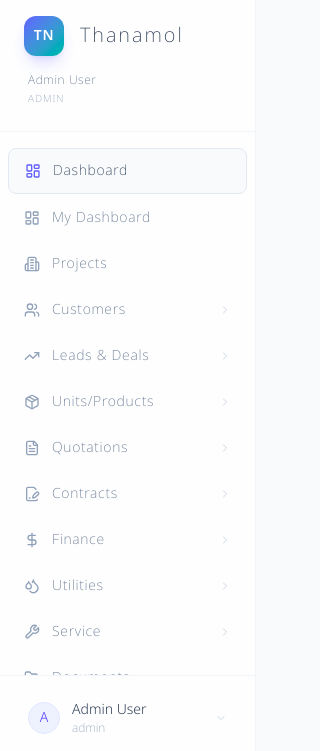
Sidebar › expands a submenu when its parent button is clicked
This screenshot has width=320, height=751.
Click the button "Customers" at (128, 310), box [8,288,247,332]
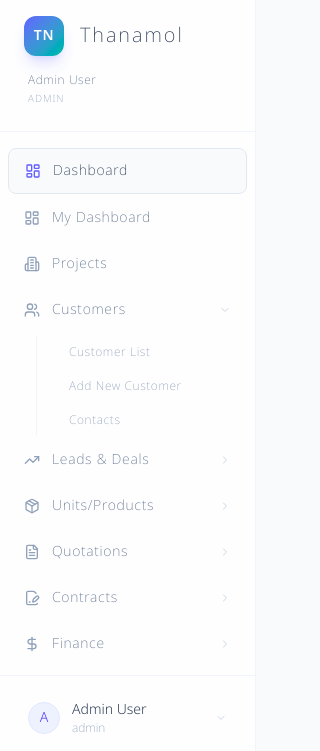
expect the text "Customer List" is shown: met, box [69,343,150,361]
expect the text "Add New Customer" is shown: met, box [69,377,182,395]
expect the text "Contacts" is shown: met, box [69,411,120,429]
